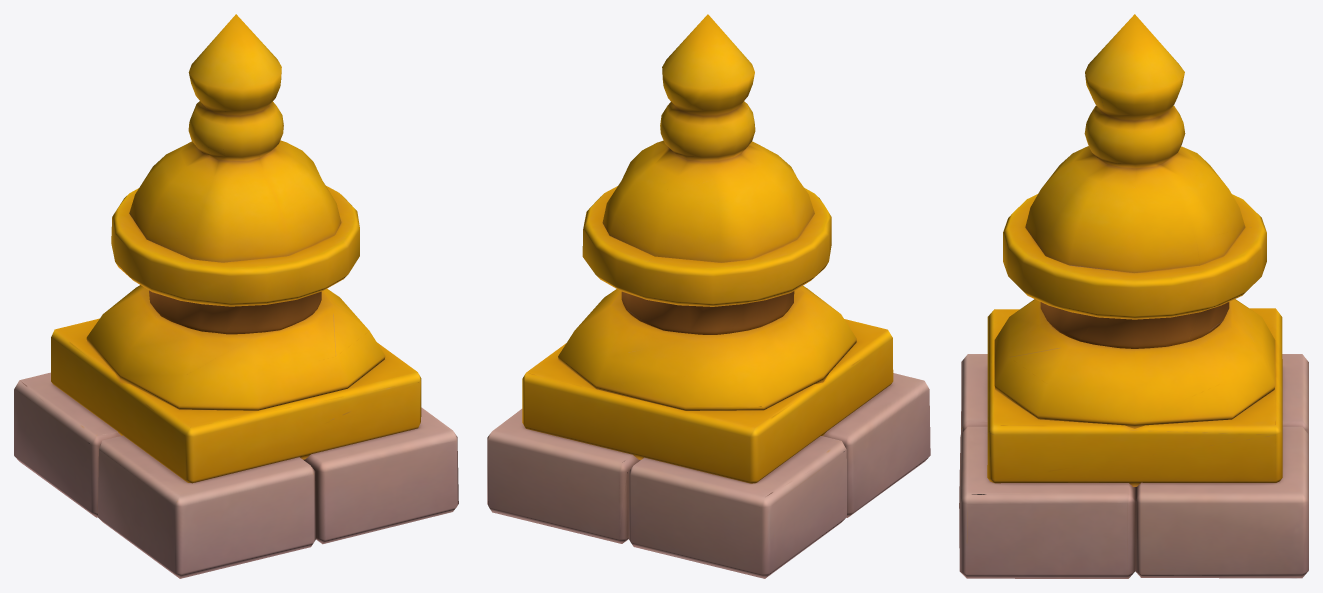
Rendered from finial_bell.glb.
The picture shows the model from 3 angles, left to right: view 1: azimuth 30°, elevation 25°; view 2: azimuth 150°, elevation 25°; view 3: azimuth 270°, elevation 25°; orthographic projection. The views are drawn at different scales.
Parts seen in each view (by area): view 1: geometry_0; view 2: geometry_0; view 3: geometry_0.
Boxes of the visible parts, bbox=[...] form: geometry_0: bbox=[14, 14, 458, 578]; geometry_0: bbox=[487, 14, 930, 578]; geometry_0: bbox=[959, 14, 1308, 578].
Bounding box in the file's own units: 0.5991 × 0.9517 × 0.6094.
1 material, 1 textured.
